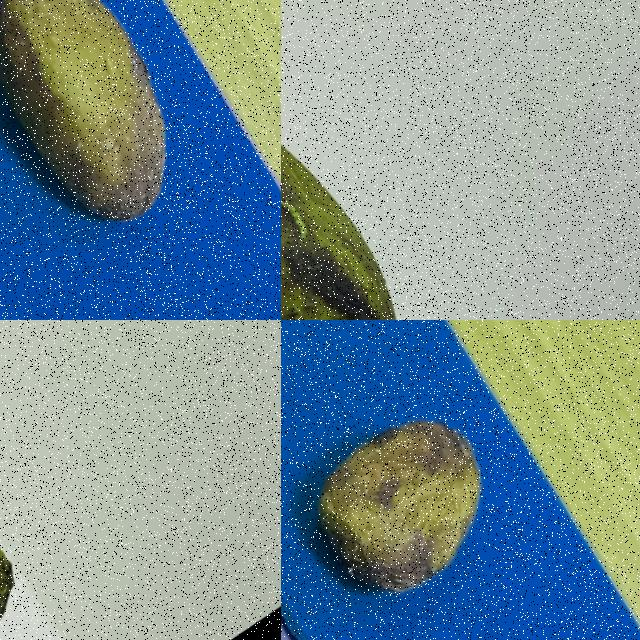Fine_cocoabeans: (281, 325, 560, 639), (0, 0, 238, 313), (281, 44, 462, 319), (0, 320, 67, 639)
